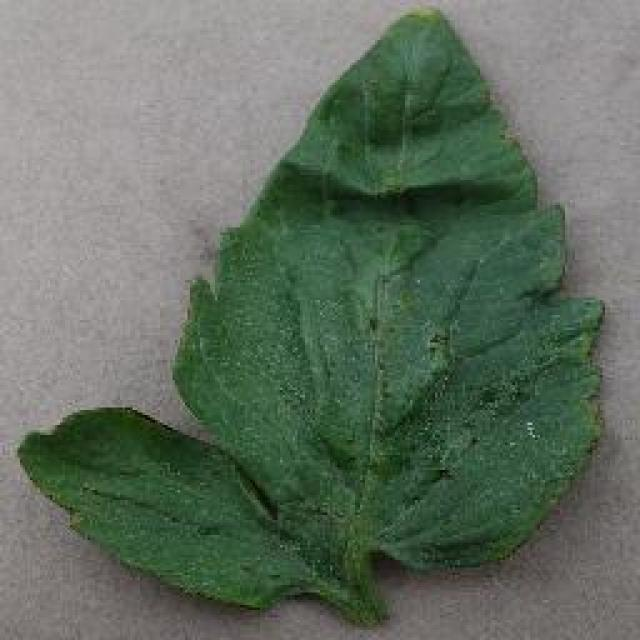Tomato___Bacterial_spot: (14, 5, 609, 634)
